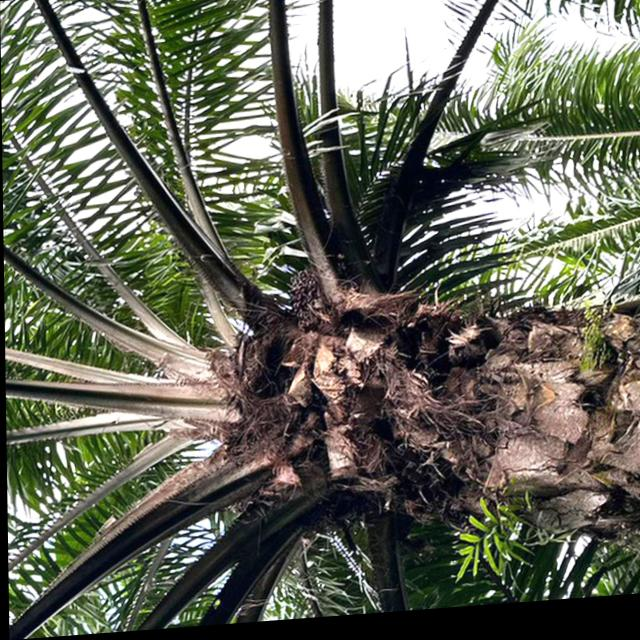ripe: (281, 271, 324, 324)
